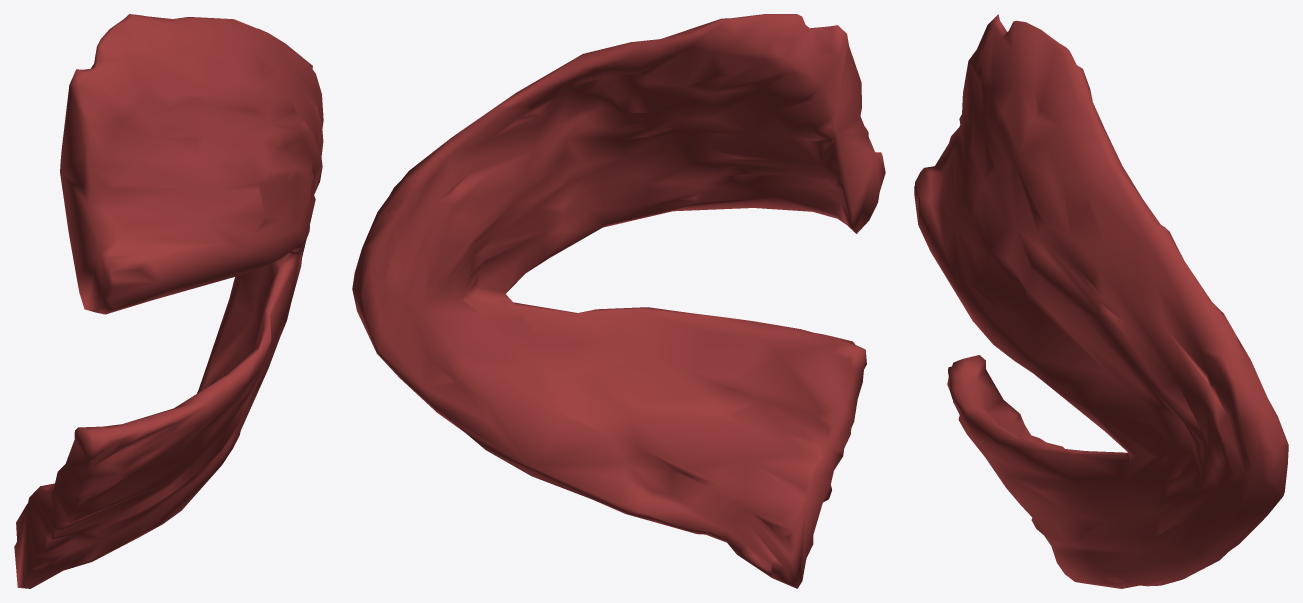
File: orbicularis-oris-muscle-l.glb
3 views of the same model, side by side, from view 1: azimuth 30°, elevation 25°; view 2: azimuth 150°, elevation 25°; view 3: azimuth 270°, elevation 25° (orthographic). The views are drawn at different scales.
Parts seen in each view (by area): view 1: Orbicularis oris muscle.l; view 2: Orbicularis oris muscle.l; view 3: Orbicularis oris muscle.l.
Part boxes in pixels (x1=…): Orbicularis oris muscle.l: x1=14, y1=14, x2=323, y2=588; Orbicularis oris muscle.l: x1=352, y1=14, x2=885, y2=588; Orbicularis oris muscle.l: x1=914, y1=14, x2=1288, y2=588.
Bounding box in the file's own units: 0.0321 × 0.0454 × 0.0276.
